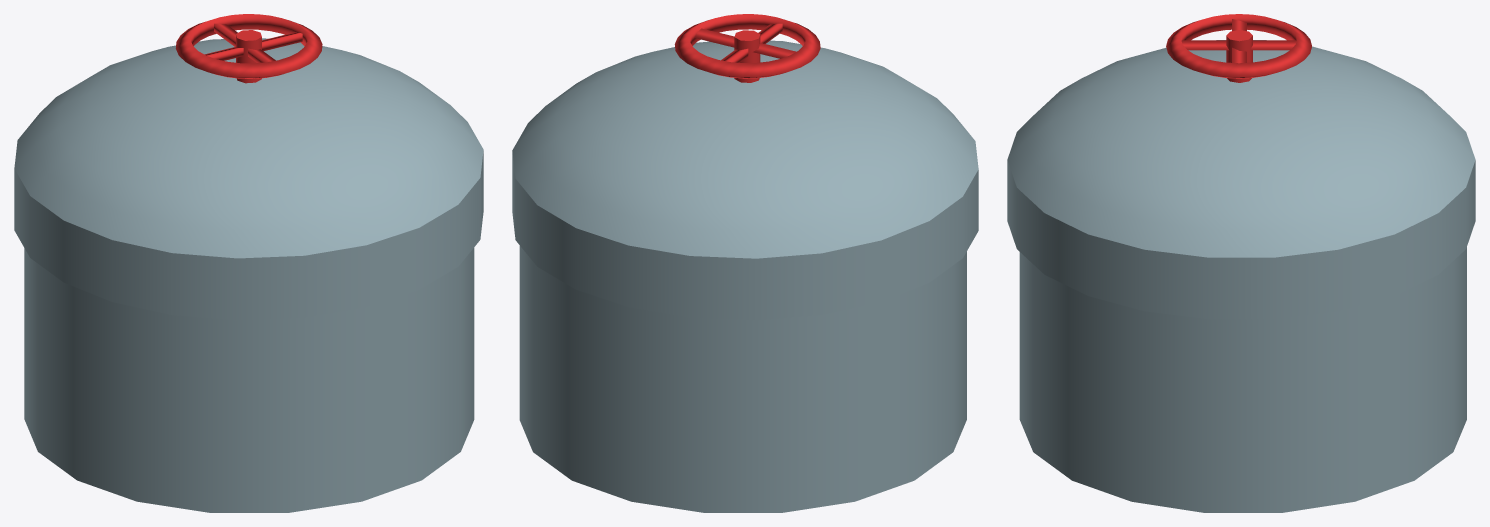
Rendered from lingjian_tong.FBX.
3 renders of one model, left to right at view 1: azimuth 30°, elevation 25°; view 2: azimuth 150°, elevation 25°; view 3: azimuth 270°, elevation 25°, orthographic.
Visible parts, largest first — view 1: Object013; view 2: Object013; view 3: Object013.
Part boxes in pixels (x1,y1,x2,y2): Object013: (14,14,483,512); Object013: (512,14,978,512); Object013: (1007,14,1475,512).
Size of the model in its own units: 10.31 by 9.41 by 10.42.
